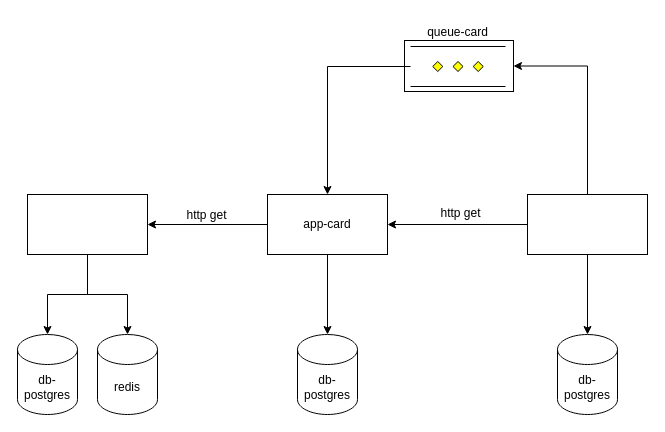
The diagram is 665 pixels wide and 432 high, and some of its shapes have lost their labels. Here are the shapes that lost their labels. From the top down, the box of each, then its label:
(26, 194, 148, 254): app-product
(526, 194, 648, 254): app-customer
